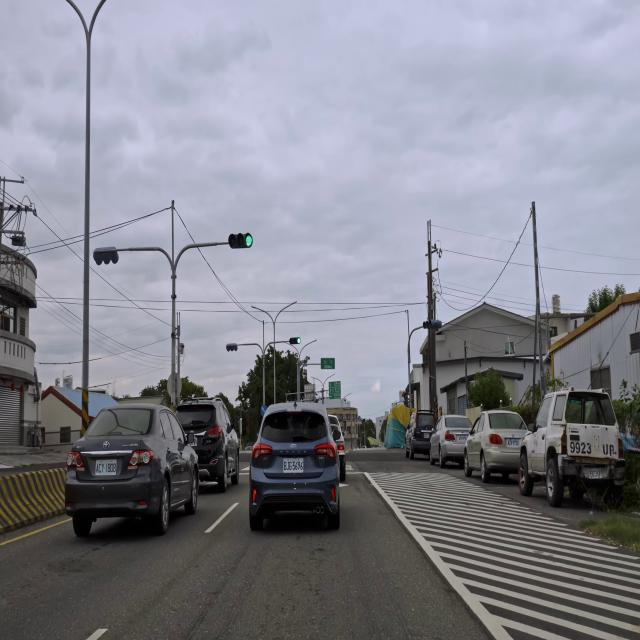green light: (228, 233, 254, 248), (288, 337, 301, 345)
